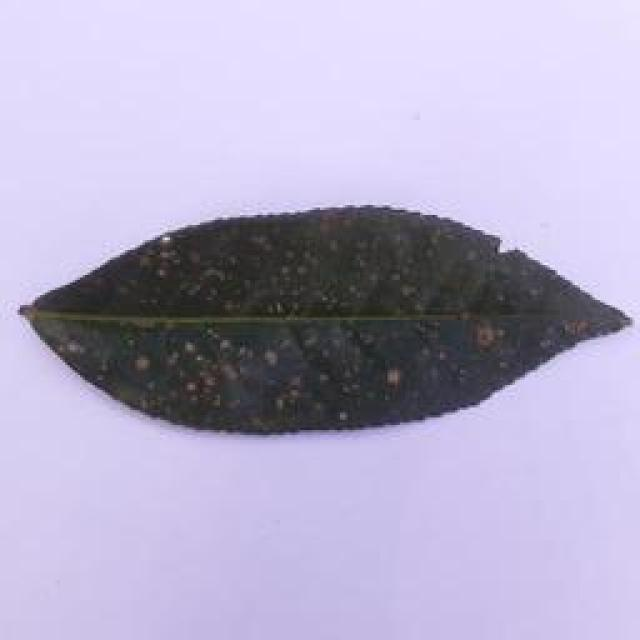Algal Leaf Spot: (10, 200, 636, 436)
